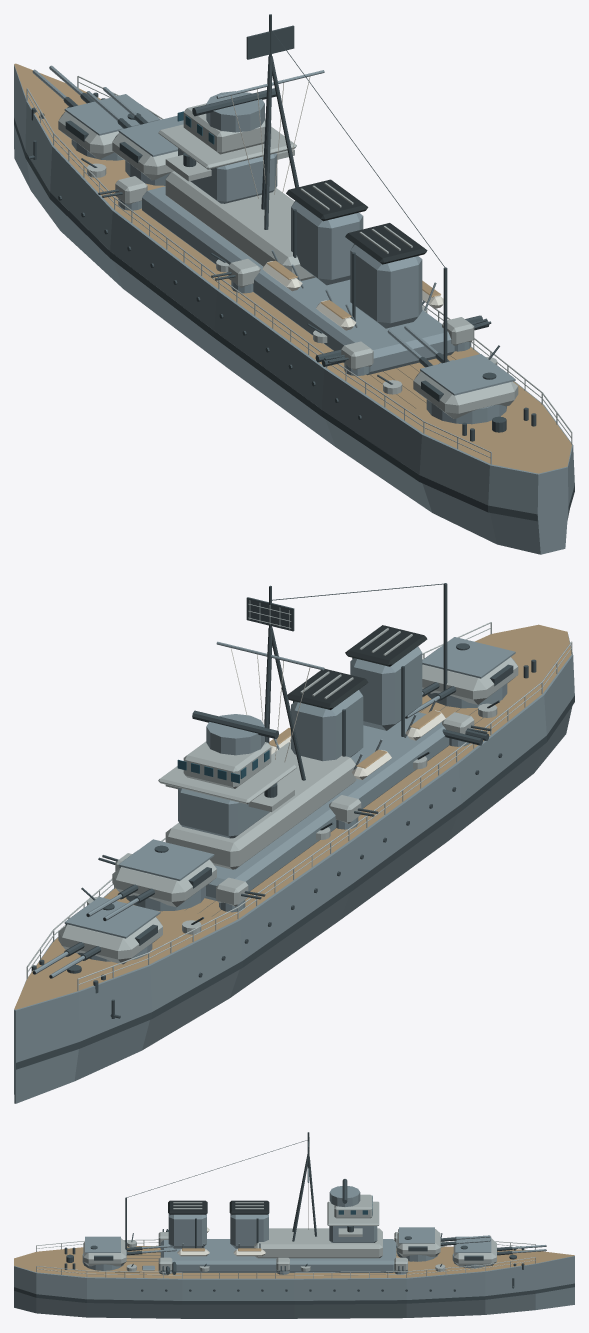
File: cruiser.glb
3 views of the same model, one above another, from view 1: azimuth 30°, elevation 25°; view 2: azimuth 150°, elevation 25°; view 3: azimuth 270°, elevation 25° (orthographic). The views are drawn at different scales.
Parts seen in each view (by area): view 1: cruiser_StaticDetail, MainTurret_2.001_Guns, MainTurret_0.001_Guns, MainTurret_1.001_Guns; view 2: cruiser_StaticDetail, MainTurret_1.001_Guns, MainTurret_2.001_Guns, MainTurret_0.001_Guns; view 3: cruiser_StaticDetail, MainTurret_1.001_Guns, MainTurret_2.001_Guns, MainTurret_0.001_Guns.
Boxes of the visible parts, <box> form: cruiser_StaticDetail: <box>14,14,574,554</box>; MainTurret_2.001_Guns: <box>387,325,518,424</box>; MainTurret_0.001_Guns: <box>32,65,160,160</box>; MainTurret_1.001_Guns: <box>86,87,183,185</box>; cruiser_StaticDetail: <box>14,583,574,1103</box>; MainTurret_1.001_Guns: <box>86,839,216,921</box>; MainTurret_2.001_Guns: <box>405,637,518,718</box>; MainTurret_0.001_Guns: <box>32,897,162,978</box>; cruiser_StaticDetail: <box>14,1132,574,1318</box>; MainTurret_1.001_Guns: <box>396,1227,490,1261</box>; MainTurret_2.001_Guns: <box>82,1236,176,1270</box>; MainTurret_0.001_Guns: <box>452,1236,546,1268</box>.
Size of the model in its own units: 12.3 by 23.7 by 70.
